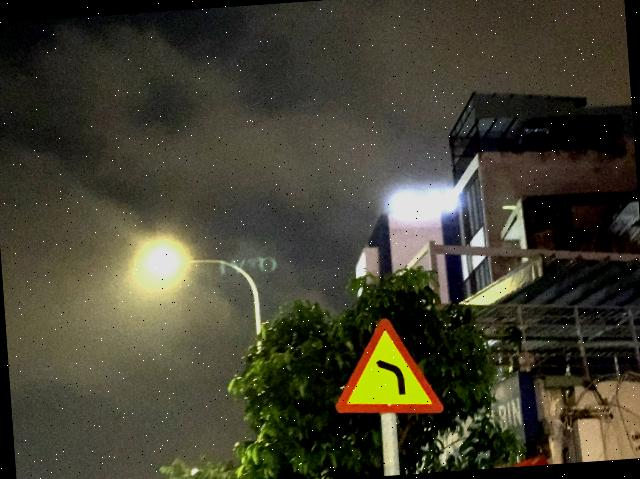cho-ngoat-nguy-hiem-ben-trai: (328, 313, 444, 421)
